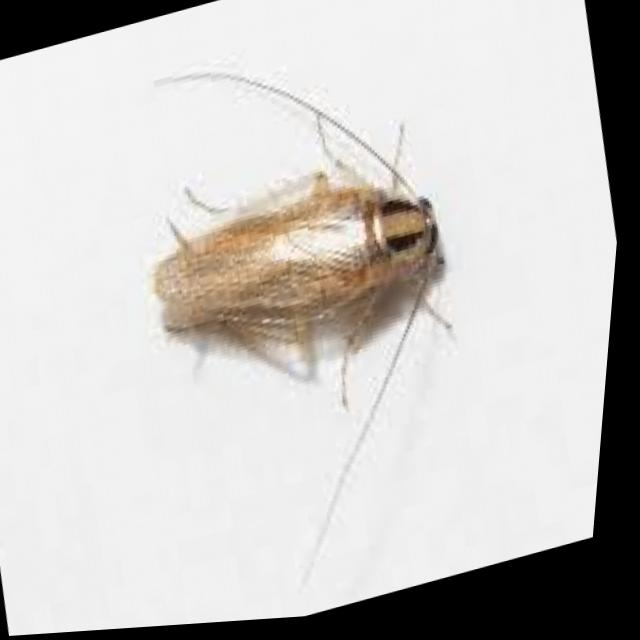Cockroach: (87, 0, 536, 631)
